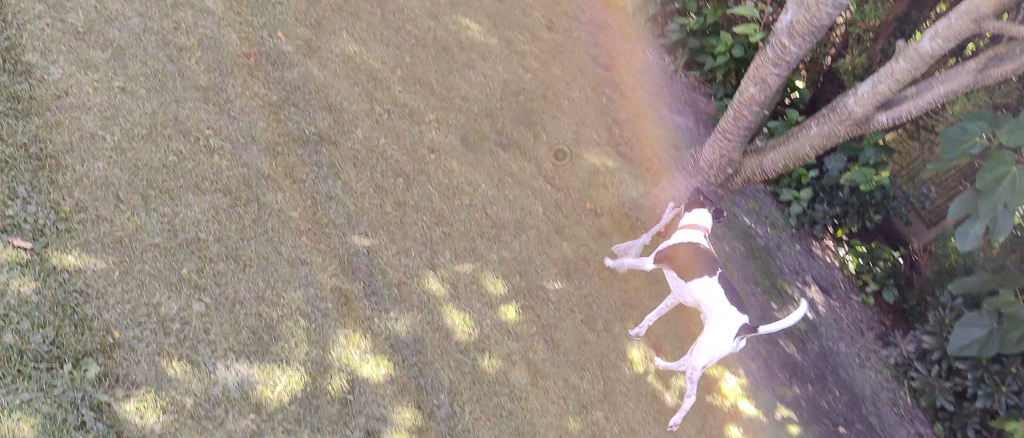Dog: (602, 183, 812, 434)
